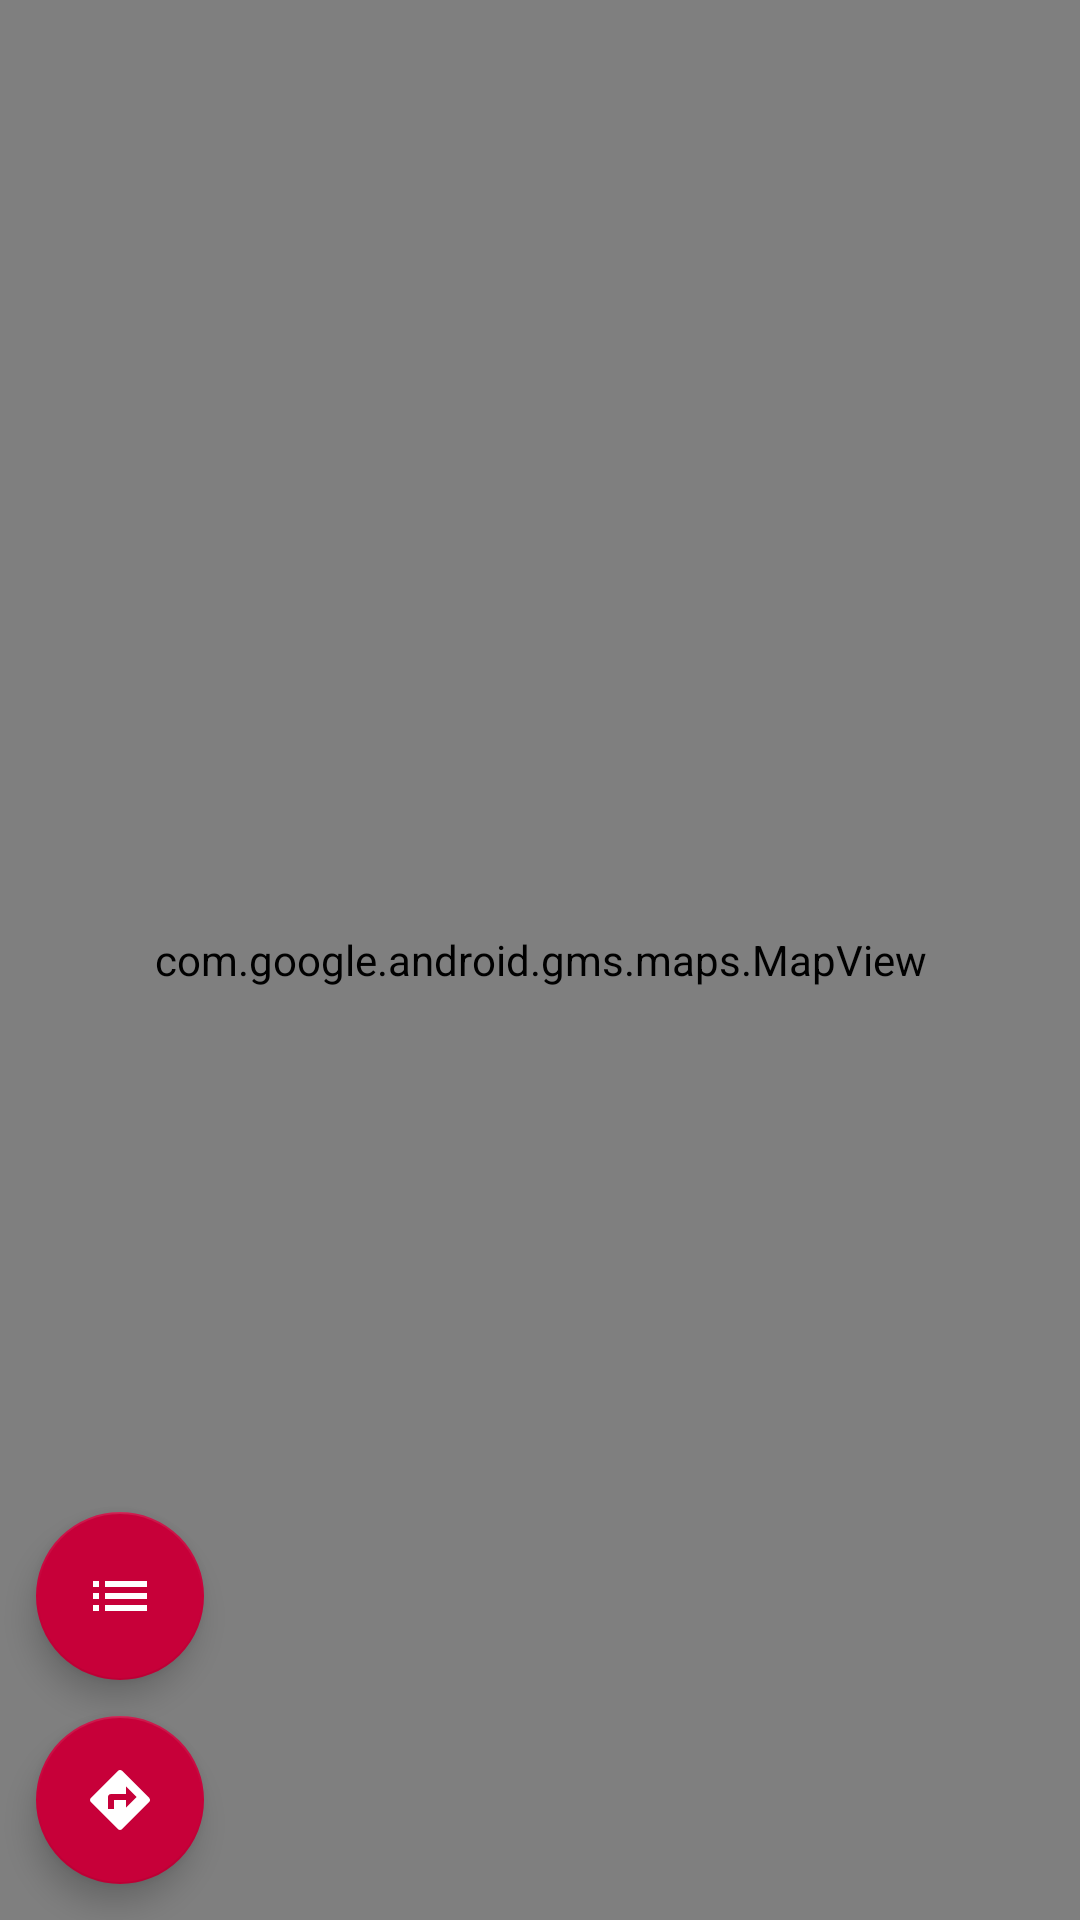

Icon bounding boxes for this 1080x1920 phone screenshot, format box(x1, y1, x2, y2):
directions: box(36, 1716, 204, 1884)
list: box(36, 1512, 204, 1680)
